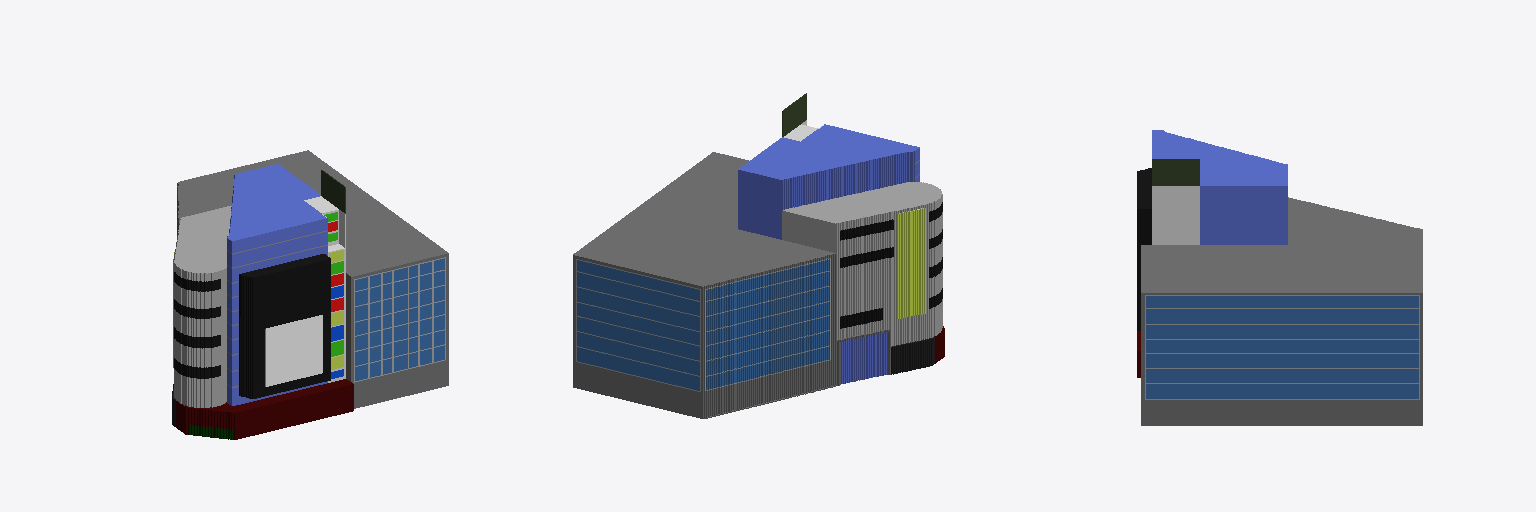
3 renders of one model, left to right at view 1: azimuth 30°, elevation 25°; view 2: azimuth 150°, elevation 25°; view 3: azimuth 270°, elevation 25°, orthographic.
Parts seen in each view (by area): view 1: object 1; view 2: object 1; view 3: object 1.
Boxes of the visible parts, x1=… form: object 1: x1=172, y1=150, x2=448, y2=439; object 1: x1=573, y1=93, x2=944, y2=418; object 1: x1=1137, y1=130, x2=1422, y2=425.
Size of the model in its own units: 25.6 by 21.6 by 25.6.
1 materials, 1 textured.